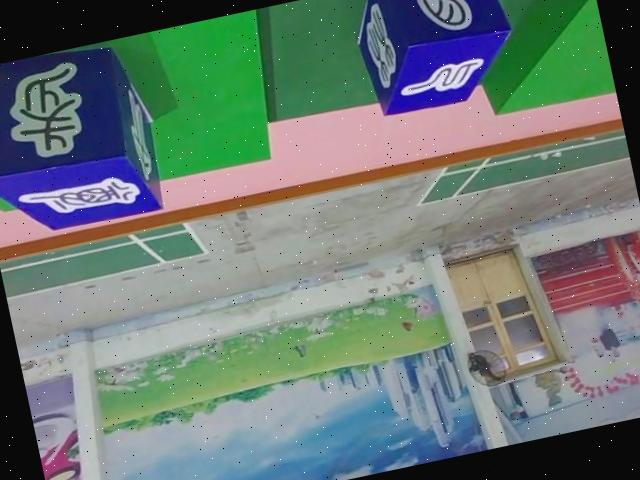R2 Fake Blue: (0, 34, 172, 250), (347, 0, 525, 118)
